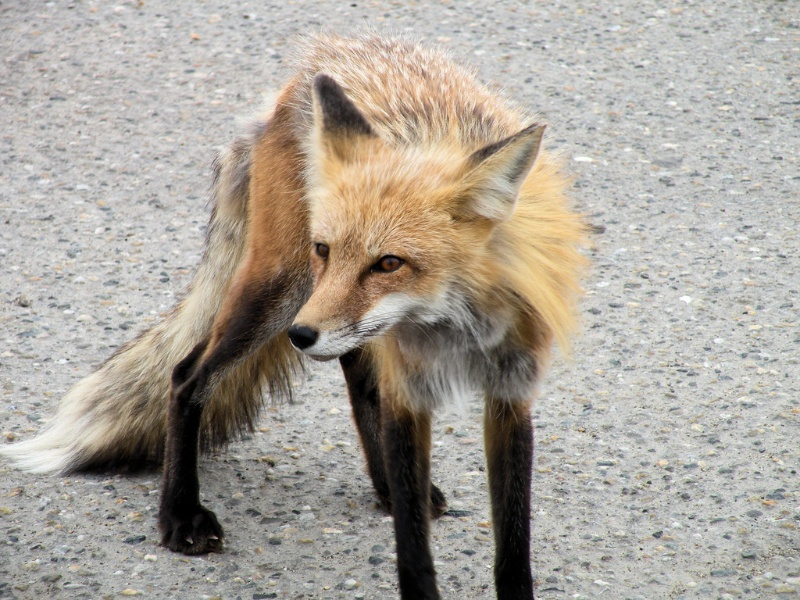fox: (14, 30, 585, 586)
